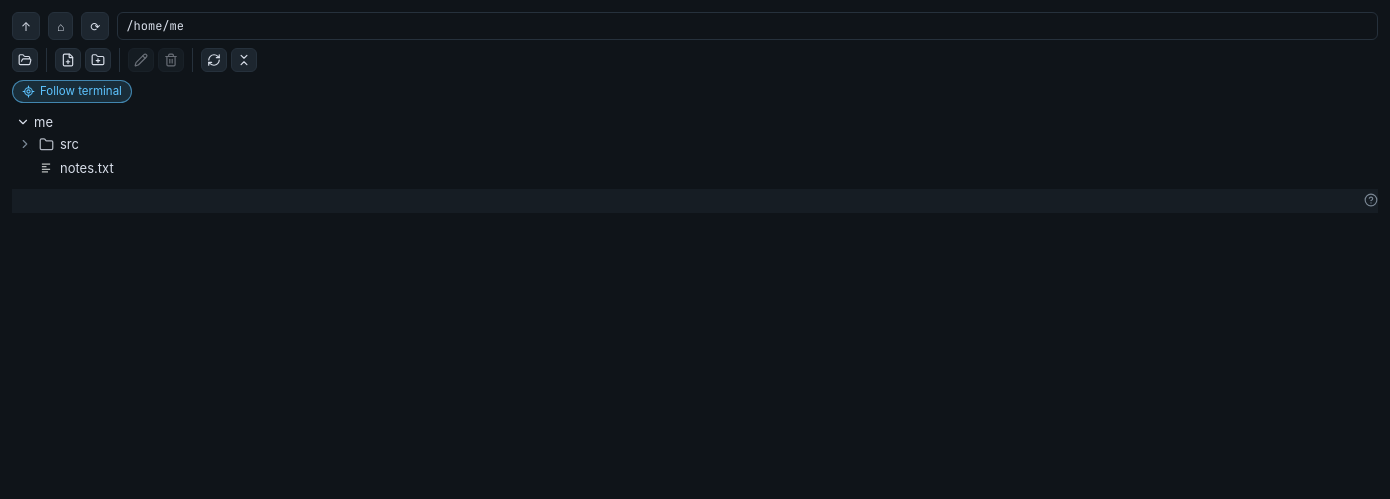
Scenario: LocalPanel tree › DEV mode's menu, as VS Code's Explorer › lists VS Code's actions with their keys, then PlexusTerm's own
Right-click the text "notes.txt": coordinates (87, 168) x1=60 y1=160 x2=114 y2=176
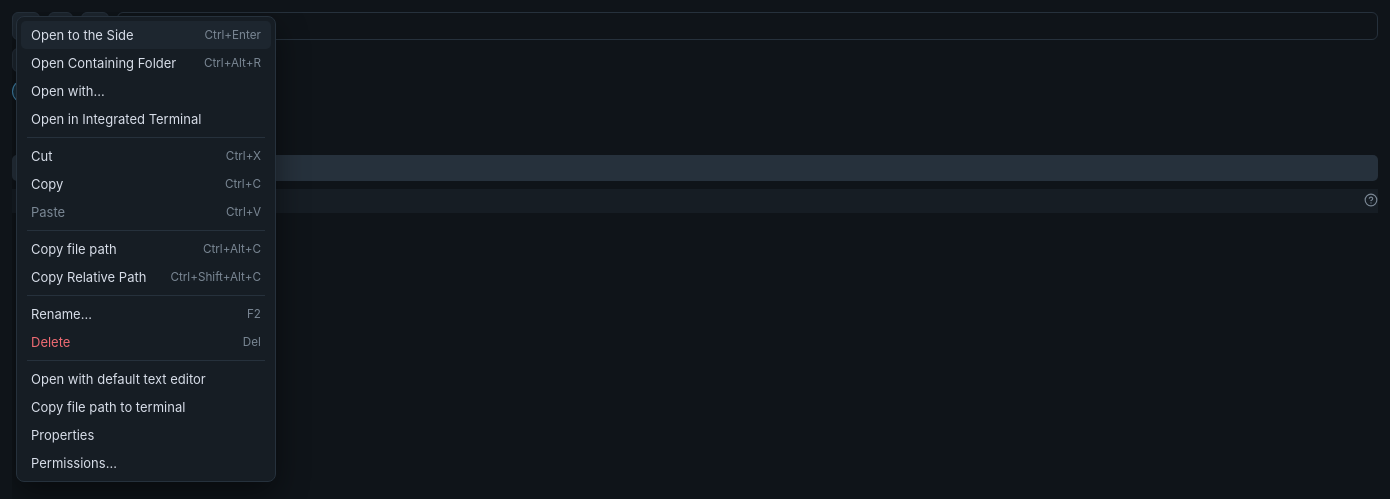
expect the menu item "Paste Ctrl+V" is disabled: met, box x1=21 y1=198 x2=271 y2=226
